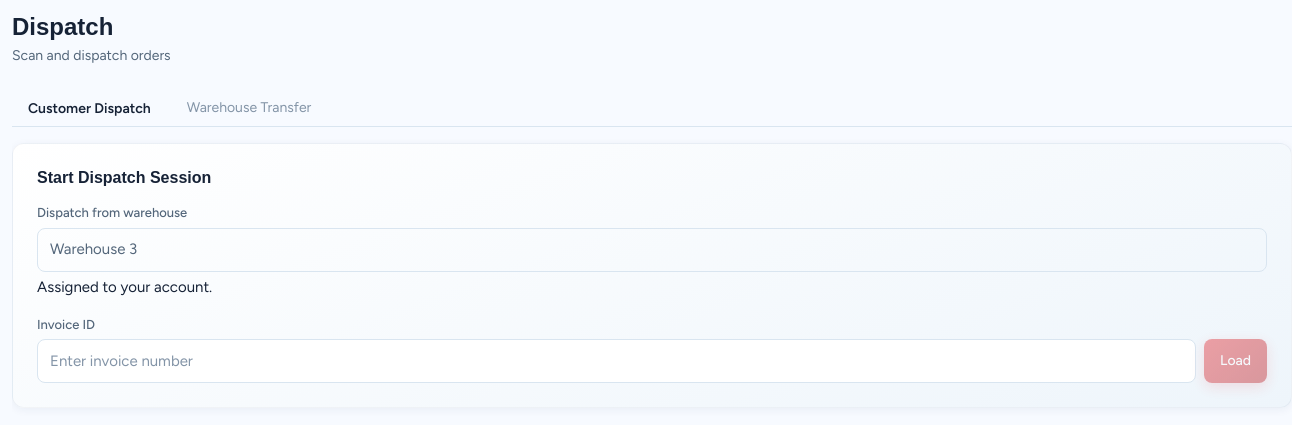
Scenario: DispatchPage — initial render › load button becomes enabled when query is entered
The image size is (1292, 425).
Step 1. Type "1" into the field labelled "Invoice ID" → x=617, y=361, box [37, 339, 1196, 383]
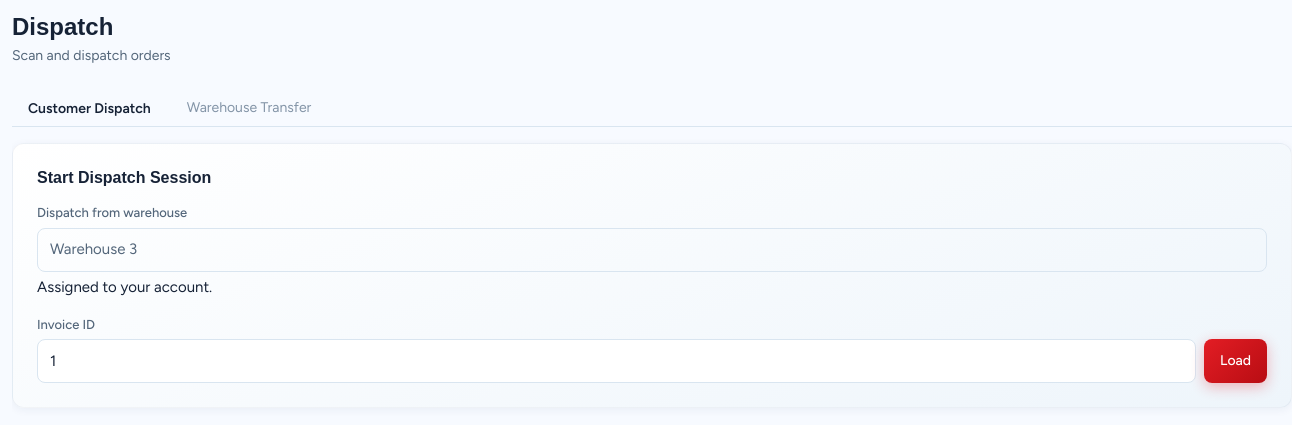
Expected: the button "Load" is enabled, [1204, 339, 1267, 383]
